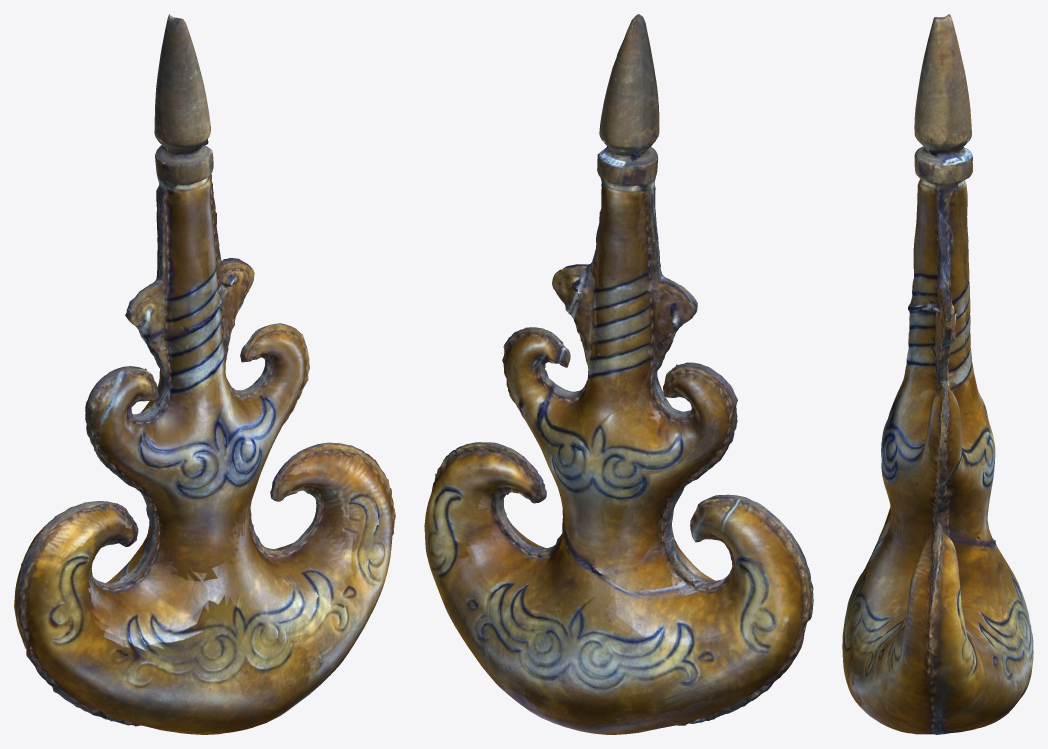
Rendered from torsyk_kymyz.glb.
3 renders of one model, left to right at view 1: azimuth 30°, elevation 25°; view 2: azimuth 150°, elevation 25°; view 3: azimuth 270°, elevation 25°, orthographic. The views are drawn at different scales.
Visible parts, largest first — view 1: Polygon Reduction; view 2: Polygon Reduction; view 3: Polygon Reduction.
Part boxes in pixels (x1,y1,x2,y2): Polygon Reduction: (14,14,395,734); Polygon Reduction: (424,14,813,734); Polygon Reduction: (842,14,1033,734).
Size of the model in its own units: 155 by 274 by 69.62.
Materials: 1 (1 with a texture image).
